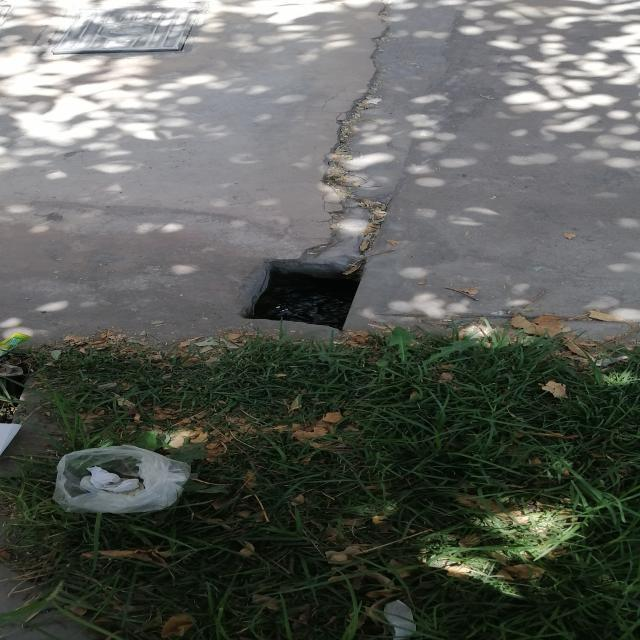hole: (242, 250, 370, 332)
